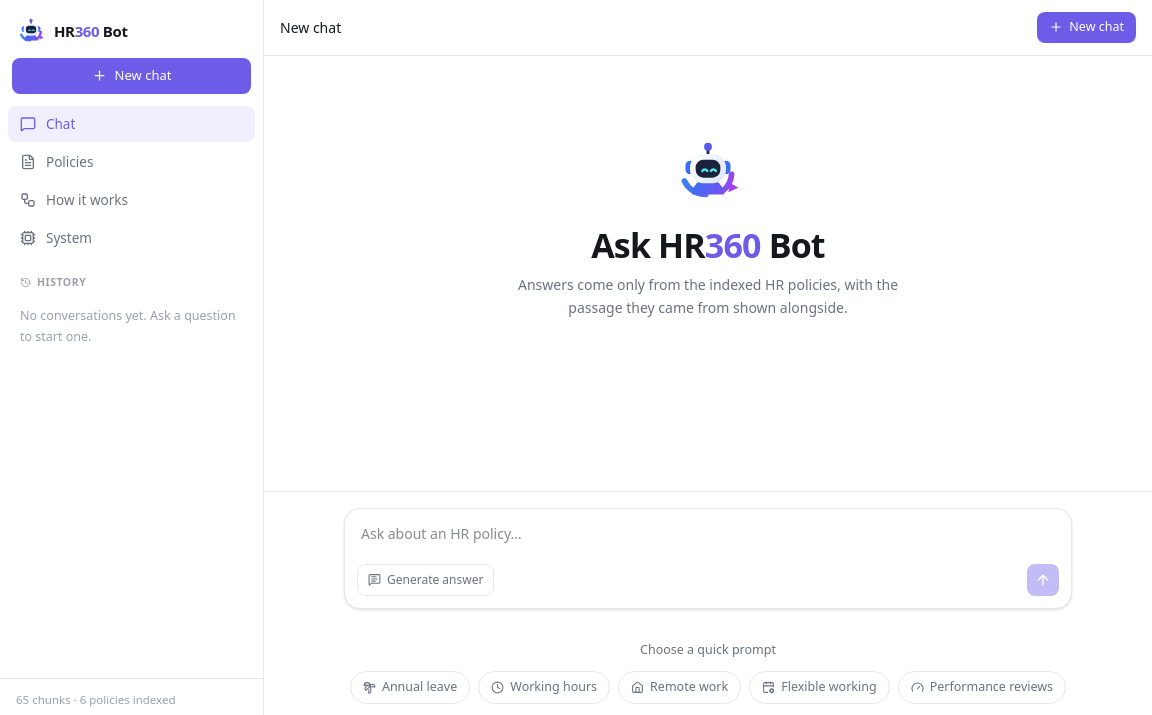
Test case: New chat › offers the header New chat button too
Click the link "Policies". click: (57, 162)
box: [20,153,93,171]
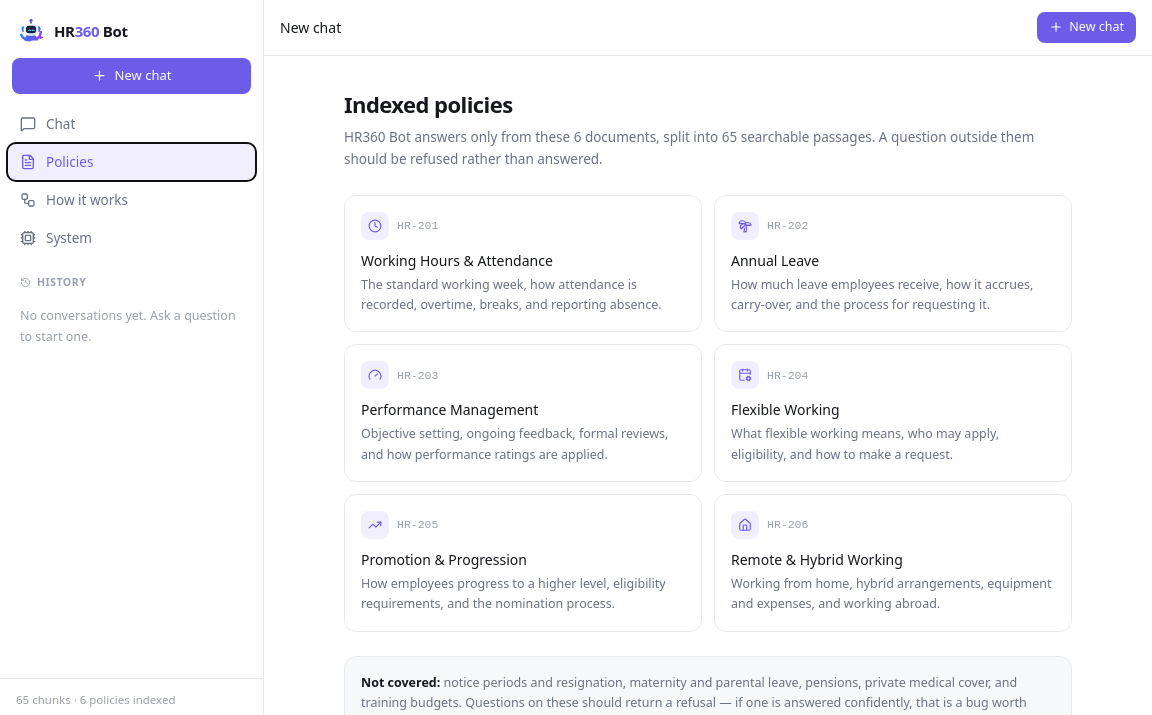
Click the 1st button "New chat". click: (1087, 27)
box: [1037,12,1136,43]
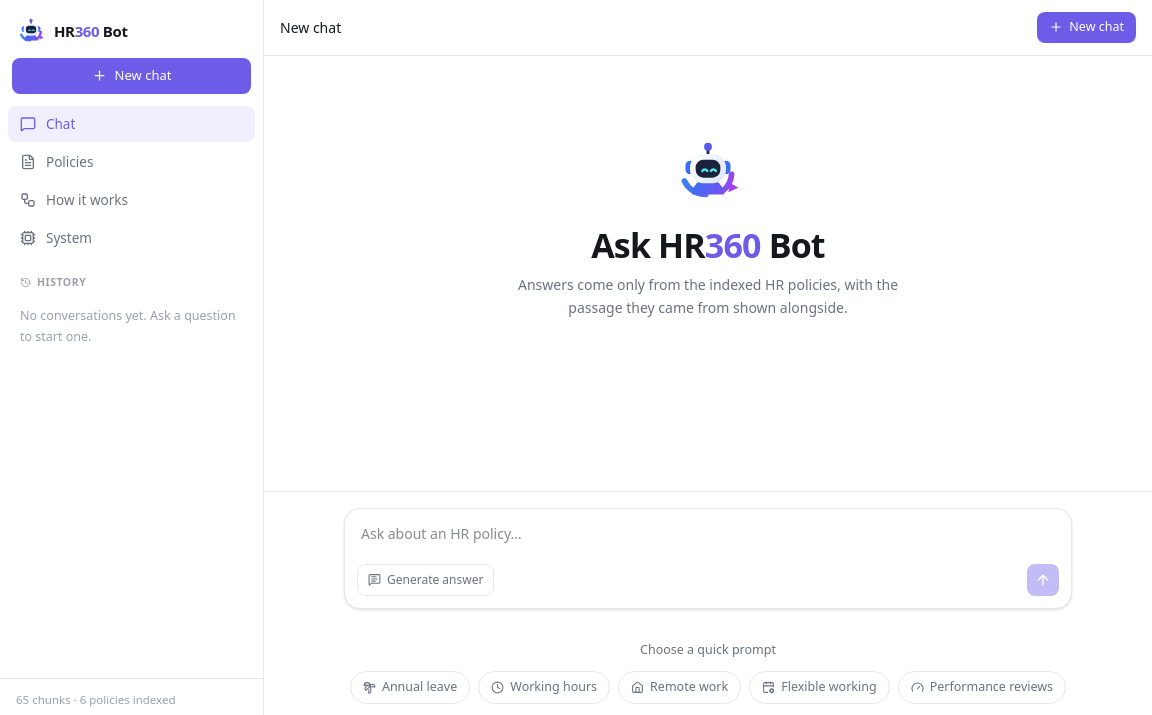
Now the heading "Indexed policies" is gone
